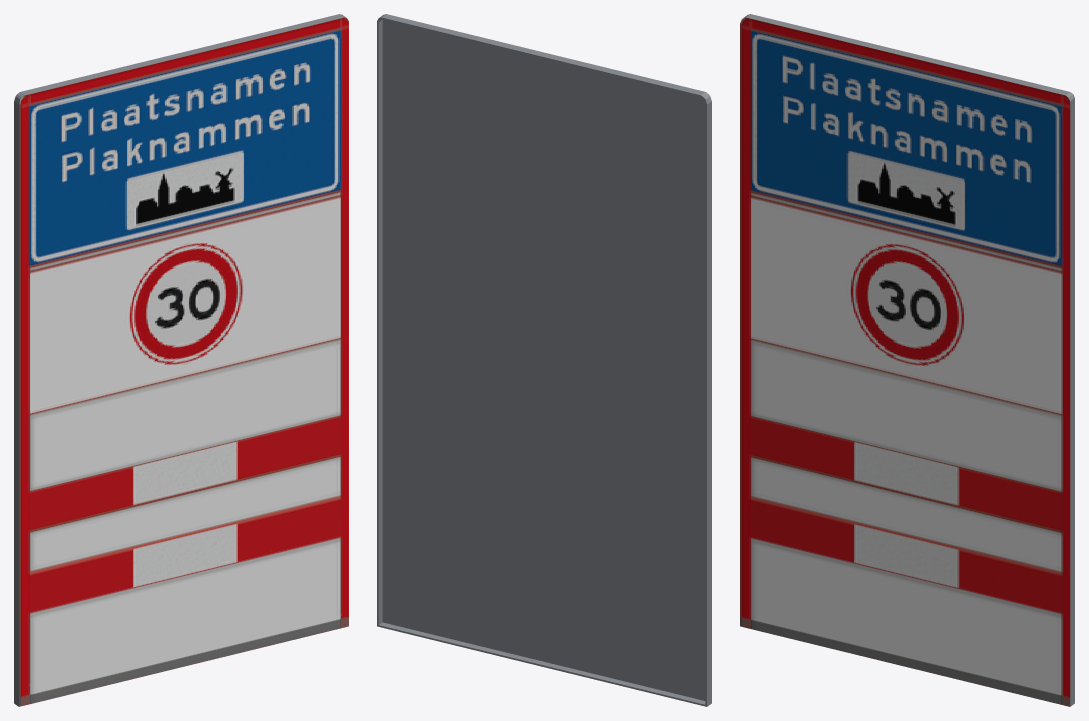
The picture shows the model from 3 angles, left to right: view 1: azimuth 30°, elevation 25°; view 2: azimuth 150°, elevation 25°; view 3: azimuth 330°, elevation 25°; orthographic projection.
Visible parts, largest first — view 1: cat_d672a3341f191ebb; view 2: cat_d672a3341f191ebb; view 3: cat_d672a3341f191ebb.
Boxes of the visible parts, x1,y1,x2,y2 form: cat_d672a3341f191ebb: (14,14,348,706); cat_d672a3341f191ebb: (377,14,711,706); cat_d672a3341f191ebb: (740,14,1074,706).
Bounding box in the file's own units: 0.6 × 0.015 × 1.06.
Materials: 2 (1 with a texture image).
